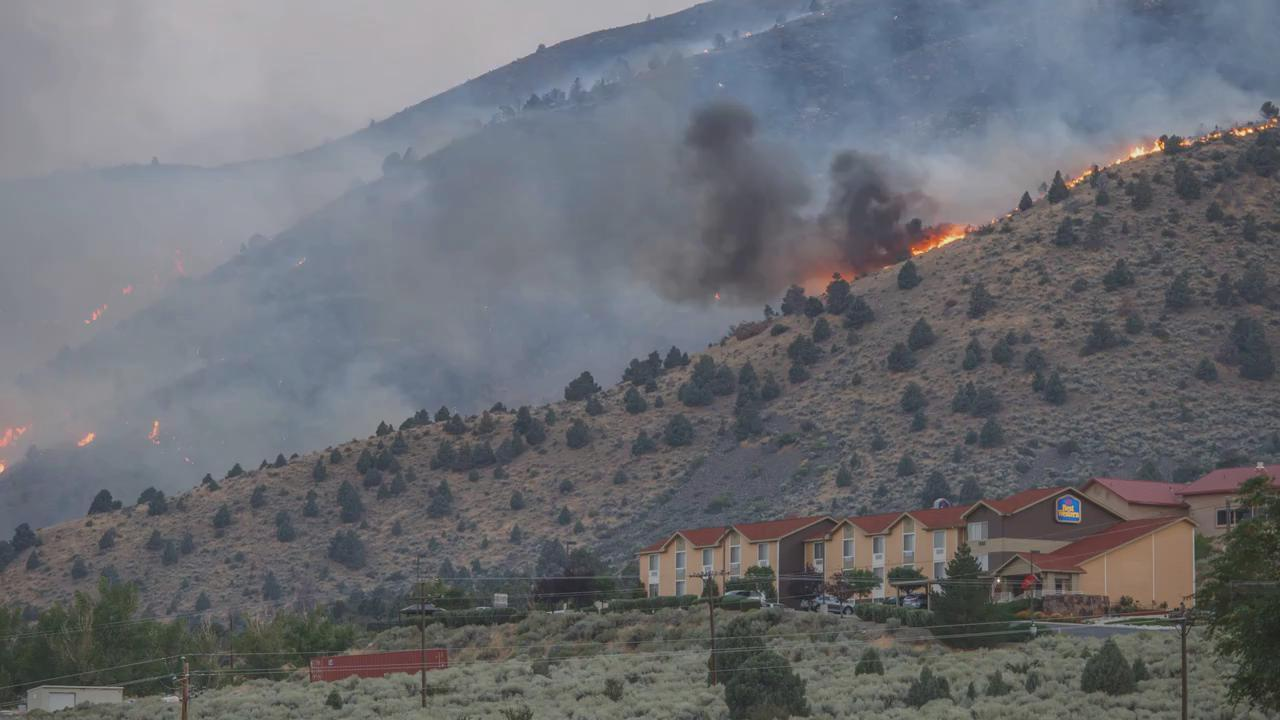fire: (1179, 122, 1272, 147), (912, 228, 963, 257), (1114, 138, 1165, 162), (82, 305, 109, 321), (1069, 169, 1091, 185), (78, 430, 99, 446), (148, 419, 163, 441), (2, 426, 21, 443), (119, 278, 135, 296)
